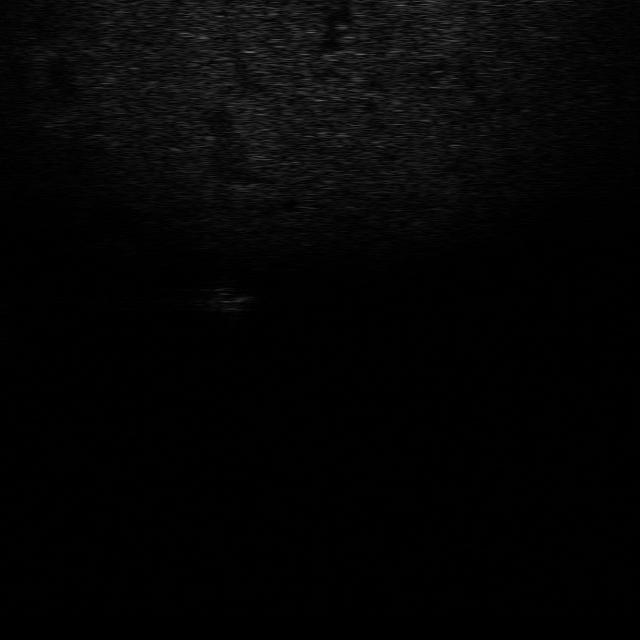human body: (202, 277, 252, 324)
